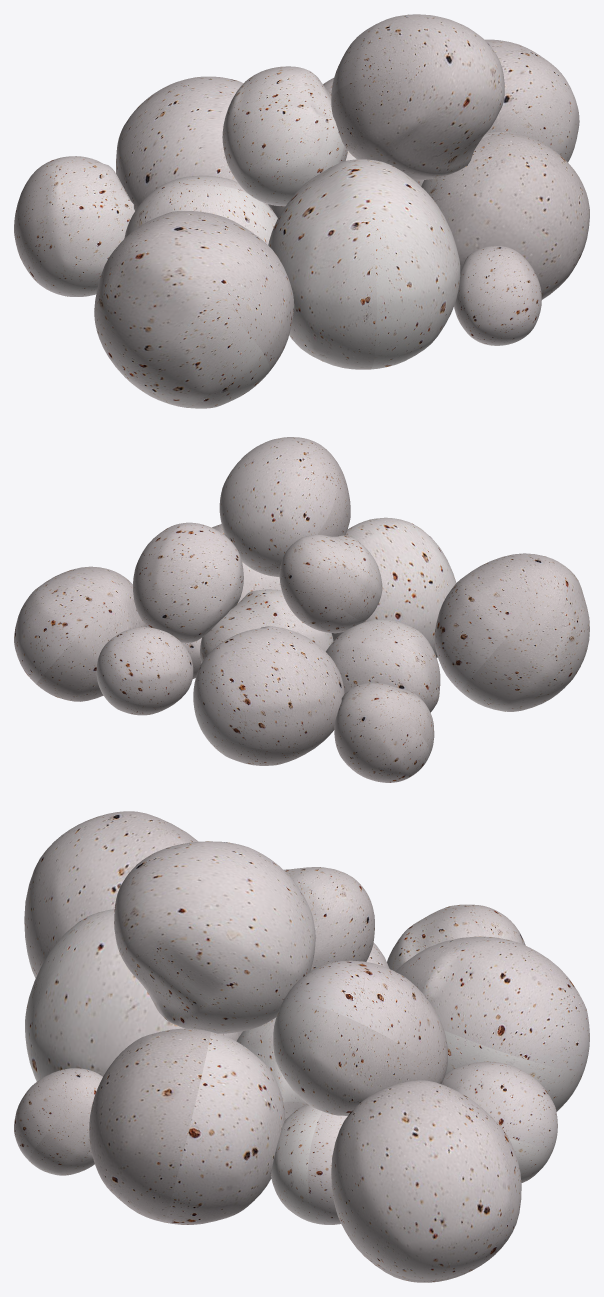
Rendered from turtleegg.fbx.
3 renders of one model, top to bottom at view 1: azimuth 30°, elevation 25°; view 2: azimuth 150°, elevation 25°; view 3: azimuth 270°, elevation 25°, orthographic. The views are drawn at different scales.
Visible parts, largest first — view 1: turtleegg14; view 2: turtleegg14; view 3: turtleegg14.
Part boxes in pixels (<box>): turtleegg14: <box>14,14,589,408</box>; turtleegg14: <box>14,437,589,782</box>; turtleegg14: <box>14,811,589,1282</box>.
Size of the model in its own units: 11.39 by 5.48 by 8.54.
14 materials, 14 textured.
